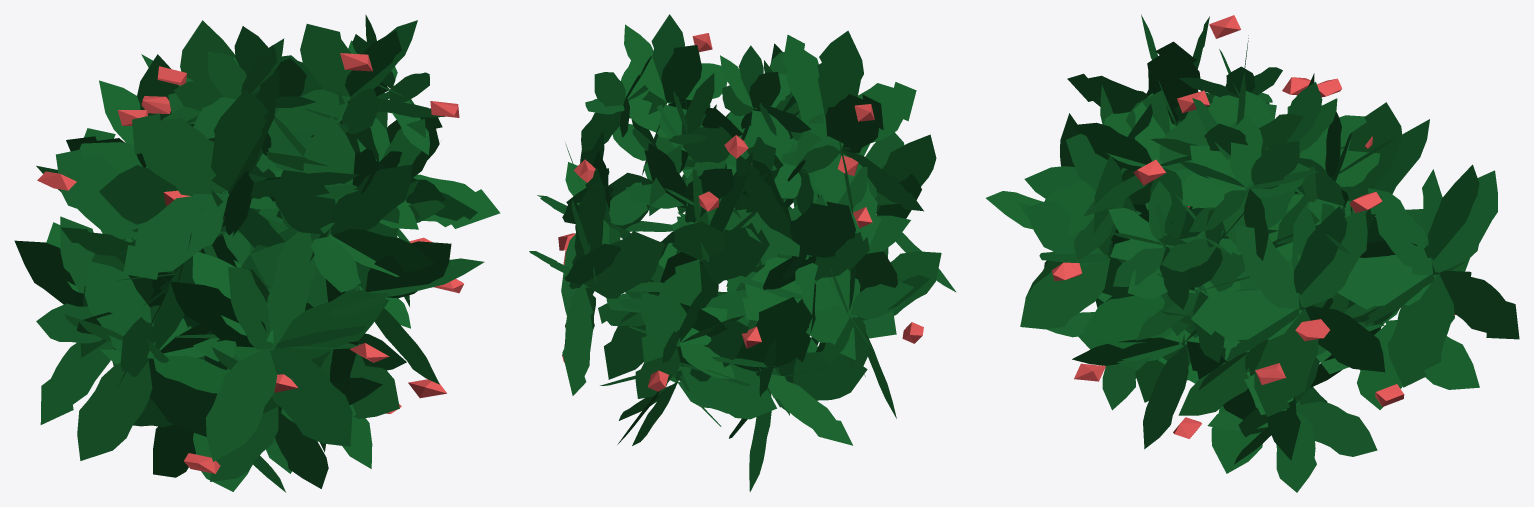
The model's file is berry_bush.glb.
3 views of the same model, side by side, from view 1: azimuth 30°, elevation 25°; view 2: azimuth 150°, elevation 25°; view 3: azimuth 270°, elevation 25° (orthographic). The views are drawn at different scales.
Parts seen in each view (by area): view 1: leaves, berries; view 2: leaves, berries; view 3: leaves, berries.
Part boxes in pixels (bbox=[...]): leaves: bbox=[14, 14, 500, 492]; berries: bbox=[37, 53, 463, 473]; leaves: bbox=[529, 14, 956, 491]; berries: bbox=[558, 33, 923, 391]; leaves: bbox=[986, 14, 1519, 492]; berries: bbox=[1051, 15, 1455, 438].
Size of the model in its own units: 0.8155 by 0.8194 by 0.935.
